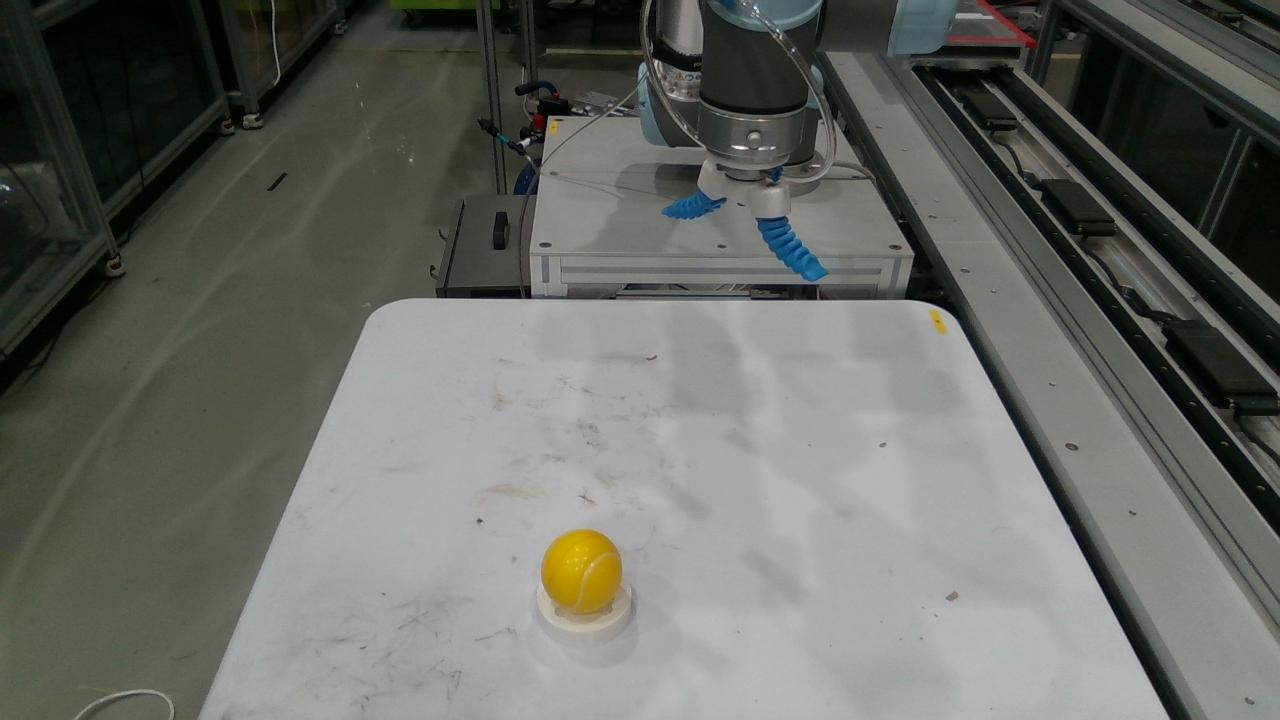UR5: (638, 0, 959, 216)
gripper_left: (661, 192, 725, 220)
gripper_right: (756, 217, 827, 282)
target: (541, 529, 623, 613), (537, 584, 633, 644)
